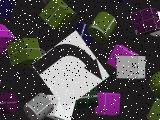Right: (32, 30, 110, 110)
